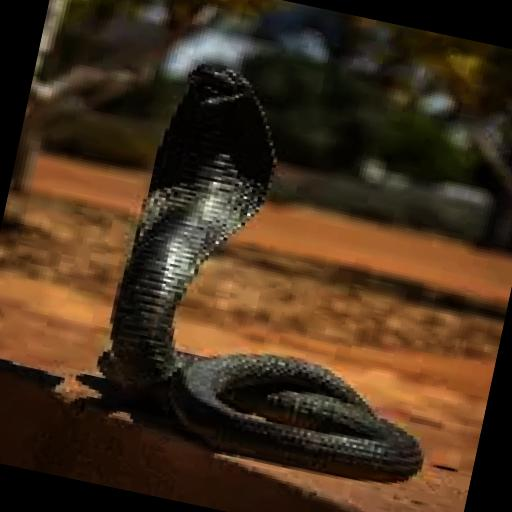snake: (97, 65, 422, 481)
